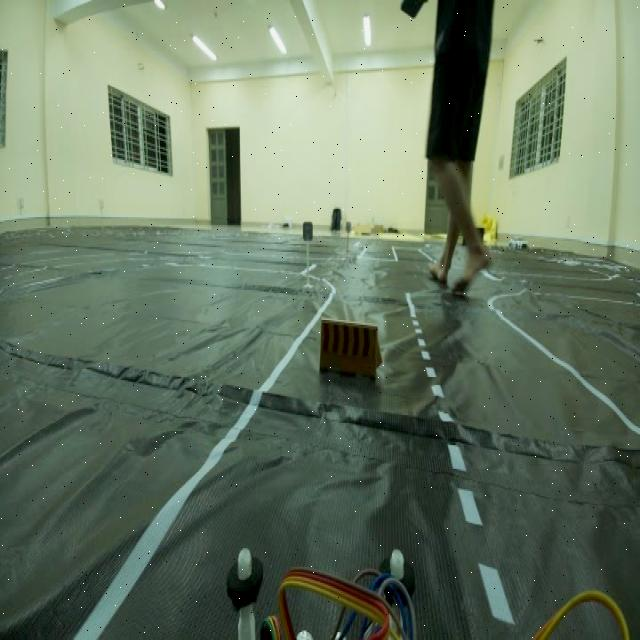roadblock: (303, 301, 396, 399)
